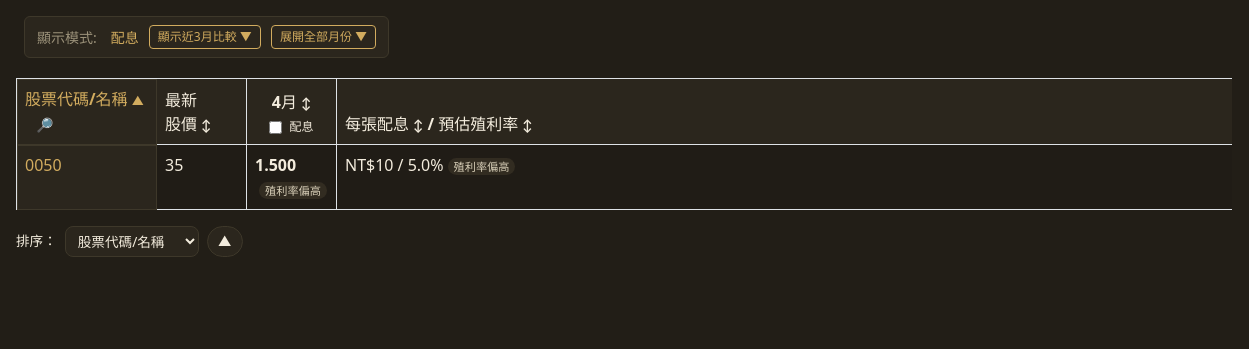
Test: defaults to showing only the current month column, expands to 3 then to 12 via two separate controls
Expected: the number of elements with class "month-th-inner" is 1, [269, 90, 314, 135]
Click the button "顯示近3月比較 ▼": coordinates (205, 37) [149, 25, 261, 49]
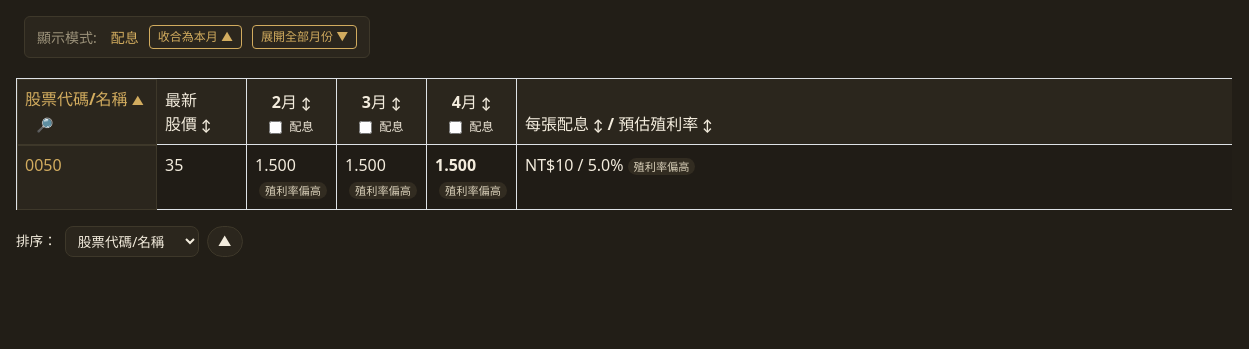
Result: the number of elements with class "month-th-inner" is 3 at [269, 90, 314, 135]; [359, 90, 404, 135]; [449, 90, 494, 135]
Click the button "展開全部月份 ▼": coordinates (305, 37) [252, 25, 357, 49]
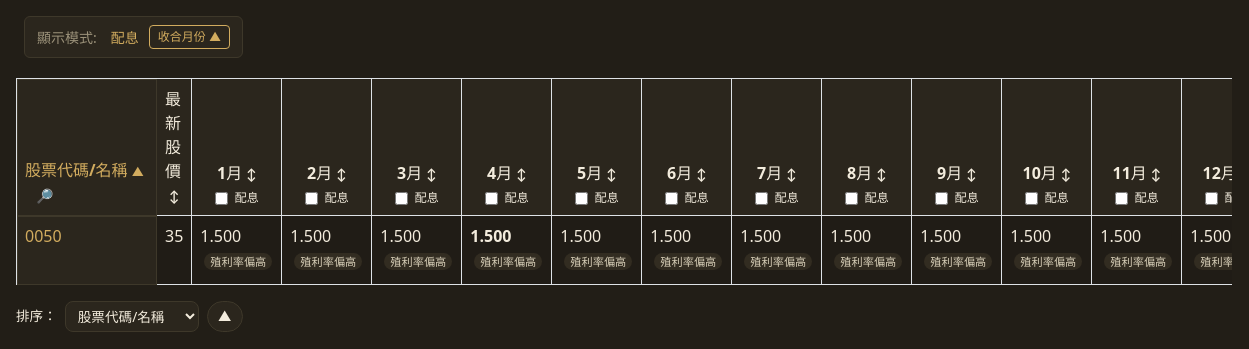
Result: the number of elements with class "month-th-inner" is 12
